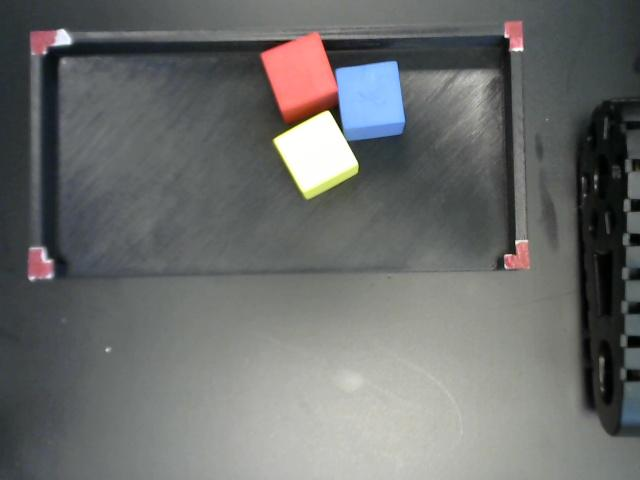cube: (273, 111, 359, 197), (263, 31, 337, 118), (336, 59, 405, 141)
